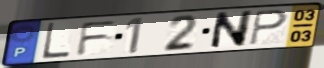1: (124, 16, 144, 56)
2: (164, 14, 201, 53)
F: (74, 19, 120, 58)
L: (40, 22, 72, 61)
N: (208, 9, 255, 51)
P: (248, 9, 290, 47)
